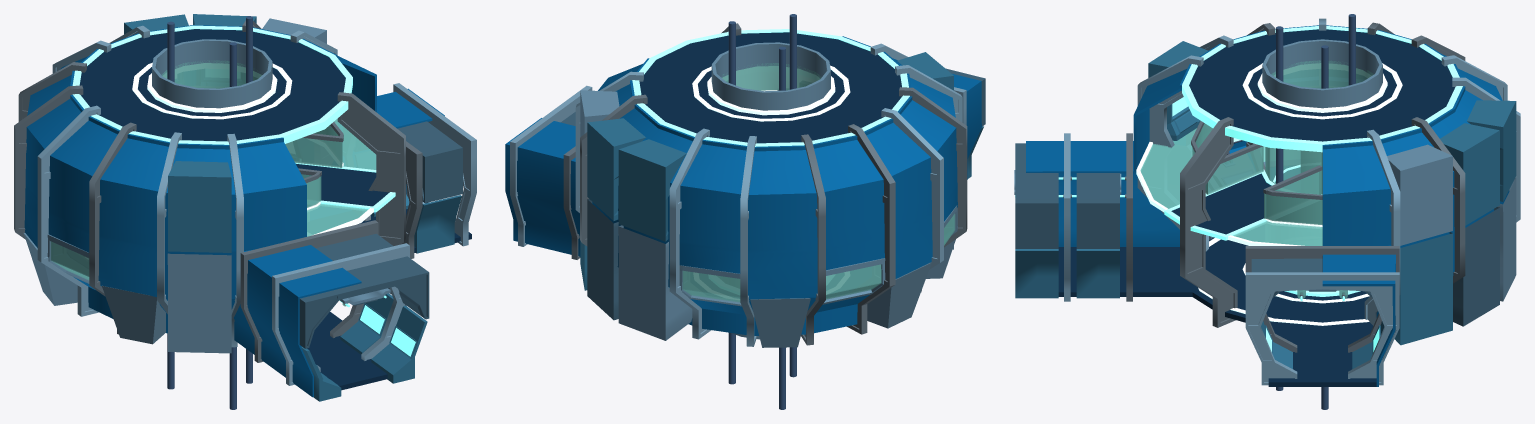
The model's file is Si_fi_Draft.fbx.
3 renders of one model, left to right at view 1: azimuth 30°, elevation 25°; view 2: azimuth 150°, elevation 25°; view 3: azimuth 270°, elevation 25°, orthographic.
Visible parts, largest first — view 1: Obshaya_Stena_LP, polySurface8354, polySurface9130, polySurface9131, polySurface9082, polySurface8414, polySurface9087, polySurface8765, polySurface8767, polySurface8405, polySurface8726, polySurface9083 (+35 smaller); view 2: Obshaya_Stena_LP, polySurface8354, polySurface8355, polySurface8356, polySurface9082, polySurface8358, polySurface8357, pPlane4, polySurface8765, polySurface8410, polySurface8377, polySurface8417 (+20 smaller); view 3: Obshaya_Stena_LP, polySurface8354, polySurface8767, polySurface9083, polySurface8414, polySurface8359, polySurface8360, polySurface9082, polySurface8753, polySurface8357, polySurface8358, polySurface8765 (+32 smaller).
Part boxes in pixels (x1,y1,x2,y2): Obshaya_Stena_LP: [24, 25, 444, 397]; polySurface8354: [79, 29, 345, 141]; polySurface9130: [167, 253, 231, 353]; polySurface9131: [168, 161, 231, 252]; polySurface9082: [152, 39, 272, 108]; polySurface8414: [337, 92, 405, 245]; polySurface9087: [397, 121, 462, 203]; polySurface8765: [72, 25, 352, 144]; polySurface8767: [307, 202, 471, 390]; polySurface8405: [37, 105, 100, 316]; polySurface8726: [347, 256, 429, 319]; polySurface9083: [393, 83, 476, 246]; Obshaya_Stena_LP: [505, 36, 981, 335]; polySurface8354: [639, 32, 901, 143]; polySurface8355: [618, 225, 692, 340]; polySurface8356: [618, 139, 686, 241]; polySurface9082: [711, 42, 830, 110]; polySurface8358: [587, 118, 645, 220]; polySurface8357: [587, 199, 618, 320]; pPlane4: [682, 213, 955, 302]; polySurface8765: [632, 29, 909, 146]; polySurface8410: [847, 124, 895, 334]; polySurface8377: [750, 298, 810, 347]; polySurface8417: [669, 128, 711, 339]; Obshaya_Stena_LP: [1026, 25, 1509, 386]; polySurface8354: [1189, 29, 1455, 141]; polySurface8767: [1058, 237, 1376, 386]; polySurface9083: [1245, 272, 1399, 385]; polySurface8414: [1180, 117, 1237, 327]; polySurface8359: [1395, 232, 1452, 345]; polySurface8360: [1387, 144, 1452, 245]; polySurface9082: [1262, 39, 1382, 108]; polySurface8753: [1140, 128, 1322, 245]; polySurface8357: [1453, 207, 1499, 326]; polySurface8358: [1440, 123, 1499, 225]; polySurface8765: [1182, 26, 1462, 152].
Bounding box in the file's own units: 1439 × 1569 × 1237.
